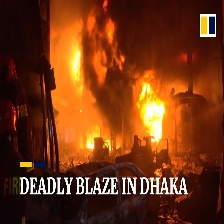fire: (138, 80, 168, 144), (81, 127, 117, 154), (67, 41, 85, 86)
smoke: (79, 3, 224, 131)
